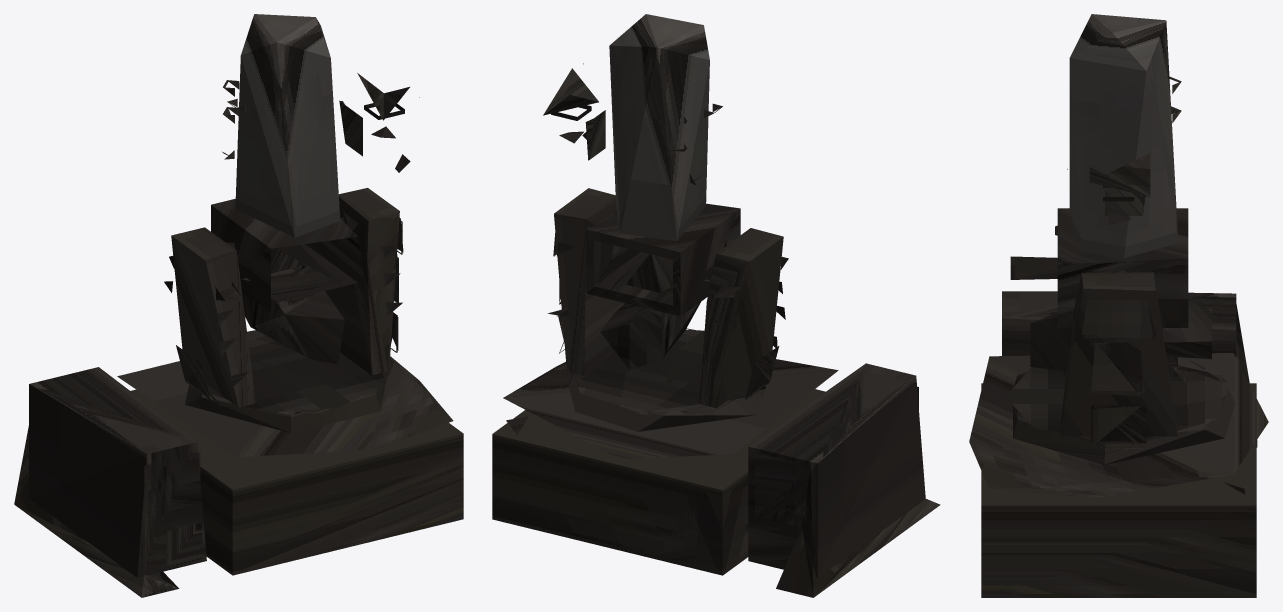
3 views of the same model, side by side, from view 1: azimuth 30°, elevation 25°; view 2: azimuth 150°, elevation 25°; view 3: azimuth 270°, elevation 25° (orthographic). The views are drawn at different scales.
Parts seen in each view (by area): view 1: Object_2; view 2: Object_2; view 3: Object_2.
Part boxes in pixels (x1,y1,x2,y2): Object_2: (14, 14, 463, 597); Object_2: (492, 14, 940, 597); Object_2: (969, 14, 1268, 597).
Size of the model in its own units: 177 by 244 by 128.
1 material, 1 textured.
